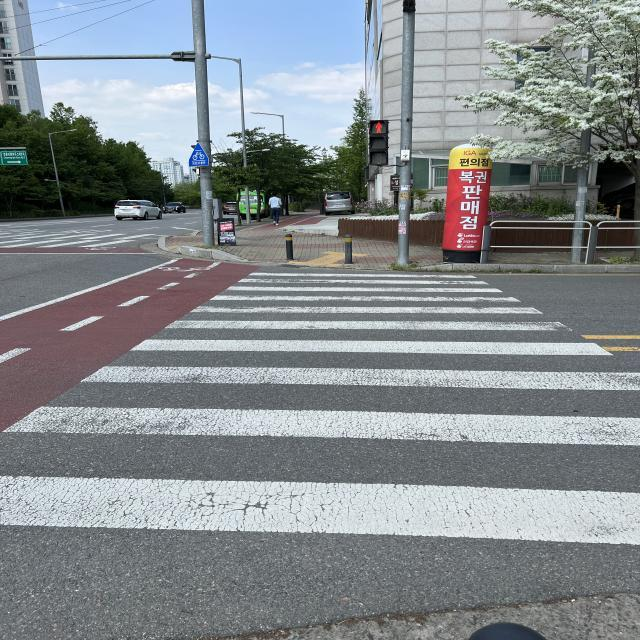crosswalk: (1, 254, 640, 597)
red-light: (366, 123, 396, 174)
